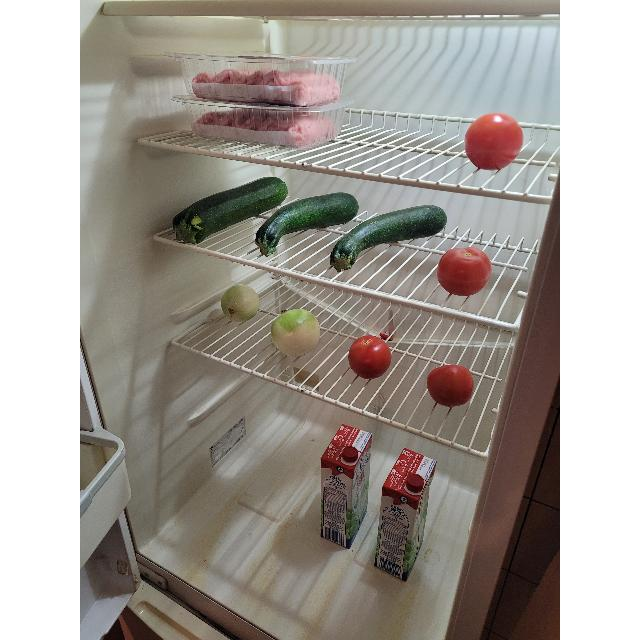meat: (189, 66, 339, 106), (192, 109, 334, 148)
milk: (376, 448, 436, 584), (318, 426, 370, 550)
onion: (270, 308, 320, 356), (220, 284, 260, 322)
tomato: (463, 114, 522, 170), (437, 246, 491, 296), (426, 364, 474, 408), (348, 334, 392, 380)
zucchini: (177, 179, 285, 239), (334, 207, 444, 261), (258, 199, 356, 247)
